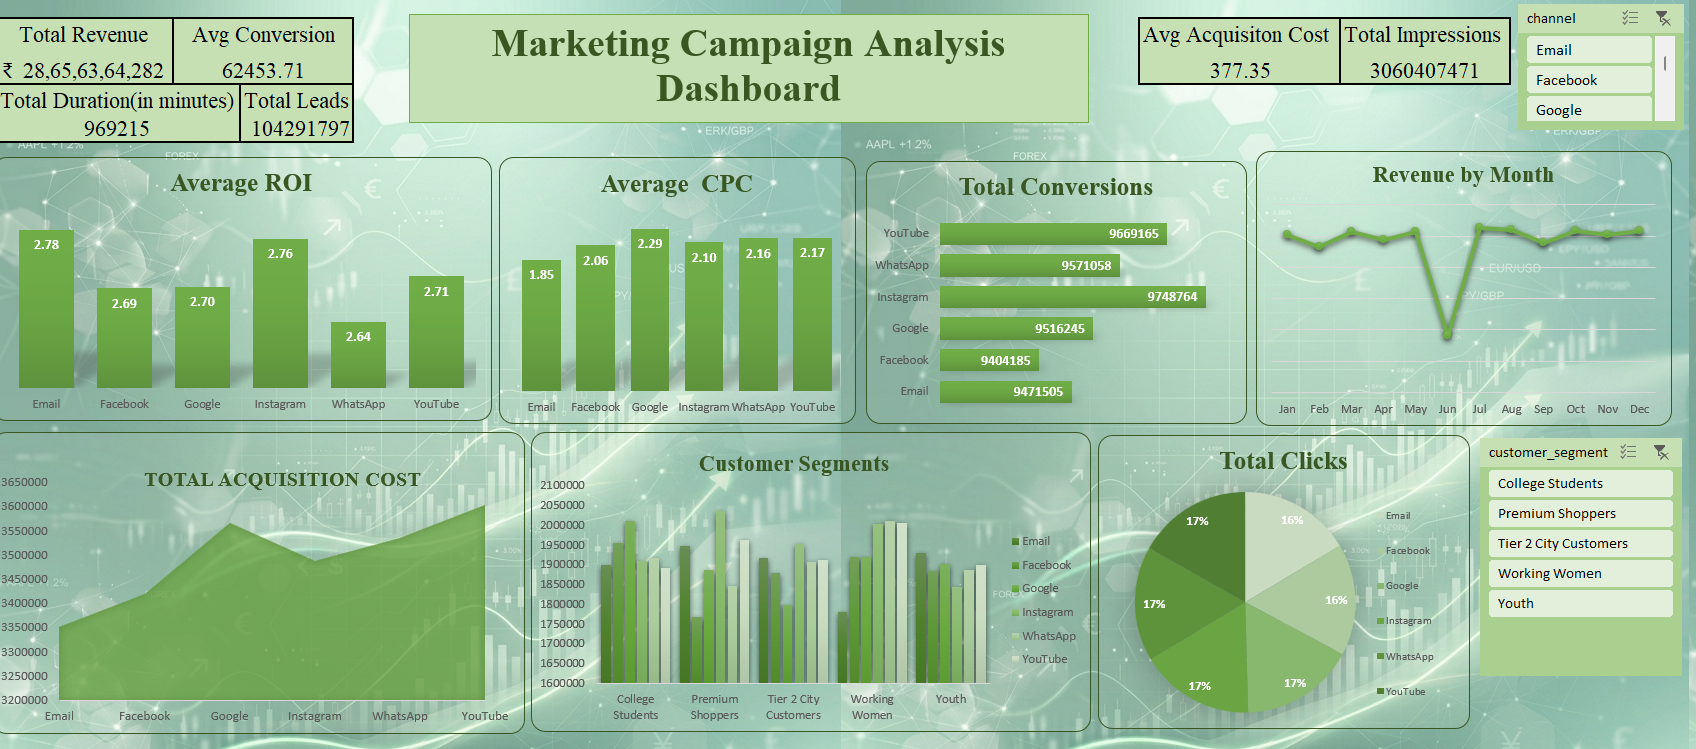

The dashboard page shown, as its layout file describes it:
{"tool":"tableau","page":{"name":"Dashboard 1","canvas":[1000,1000],"units":"permille","ordinal":0},"visuals":[{"type":"title","box":[5.2,9.9,989.7,79.3]},{"type":"worksheet","title":"Sheet 4","mark":"Automatic","box":[303.2,102.9,310.3,342]},{"type":"worksheet","title":"Sheet 5","mark":"Automatic","rows":["channel"],"cols":["acquisition_cost"],"box":[624.5,102.9,344.5,338.3]},{"type":"worksheet","title":"Sheet 1","mark":"Automatic","rows":["conversion_rate"],"cols":["channel"],"box":[14.8,106.6,274.8,342]},{"type":"legend","title":"Sheet 4","param":"[federated.0o60k540fuaypf1h8q84403o8qbe].[sum:ROI:qk]","box":[886.5,446.1,96.1,91.7]},{"type":"worksheet","title":"Sheet 3","mark":"Circle","box":[664.5,457.2,203.2,458.5]},{"type":"worksheet","title":"Sheet 2","mark":"Automatic","rows":["Cost per Conversion"],"cols":["Campaign_Type"],"box":[12.9,462.2,332.9,333.3]},{"type":"worksheet","title":"Sheet 8","mark":"Area","rows":["leads"],"cols":["date"],"box":[354.8,462.2,299.4,330.9]},{"type":"legend","title":"Sheet 8","param":"[federated.0o60k540fuaypf1h8q84403o8qbe].[none:customer_segment:nk]","box":[880,544,123.2,187.1]},{"type":"legend","title":"Sheet 2","param":"[federated.0o60k540fuaypf1h8q84403o8qbe].[none:channel:nk]","box":[901.9,737.3,90.3,233]},{"type":"worksheet","title":"Sheet 10","mark":"Automatic","box":[12.3,811.6,143.2,137.6]},{"type":"worksheet","title":"Sheet 9","mark":"Automatic","box":[160.7,812.9,130.3,135.1]},{"type":"worksheet","title":"Sheet 11","mark":"Automatic","box":[296.8,814.1,174.8,132.6]},{"type":"worksheet","title":"Sheet 12","mark":"Automatic","box":[478.1,815.4,147.7,128.9]}]}

Visuals, with their boxes on the dashboard's canvas, which has no fixed pixel size, in thousandths of its width and height (x1, y1, x2, y2). These are canvas units, not pixel positions in the 1696x749 screenshot, which may show the page scaled, cropped or inside an application window:
title: detection(5, 10, 995, 89)
"Sheet 4" worksheet: detection(303, 103, 614, 445)
"Sheet 5" worksheet: detection(624, 103, 969, 441)
"Sheet 1" worksheet: detection(15, 107, 290, 449)
"Sheet 4" legend: detection(886, 446, 983, 538)
"Sheet 3" worksheet (Circle marks): detection(664, 457, 868, 916)
"Sheet 2" worksheet: detection(13, 462, 346, 796)
"Sheet 8" worksheet (Area marks): detection(355, 462, 654, 793)
"Sheet 8" legend: detection(880, 544, 1003, 731)
"Sheet 2" legend: detection(902, 737, 992, 970)
"Sheet 10" worksheet: detection(12, 812, 156, 949)
"Sheet 9" worksheet: detection(161, 813, 291, 948)
"Sheet 11" worksheet: detection(297, 814, 472, 947)
"Sheet 12" worksheet: detection(478, 815, 626, 944)
